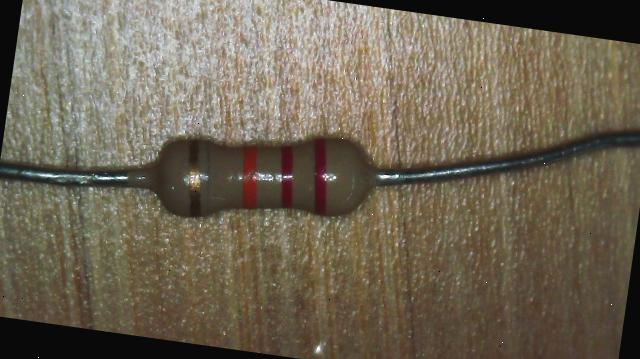gold: (180, 136, 208, 216)
orange: (236, 142, 262, 211)
red: (307, 136, 333, 216), (273, 142, 301, 210)
resistor: (134, 105, 392, 238)
